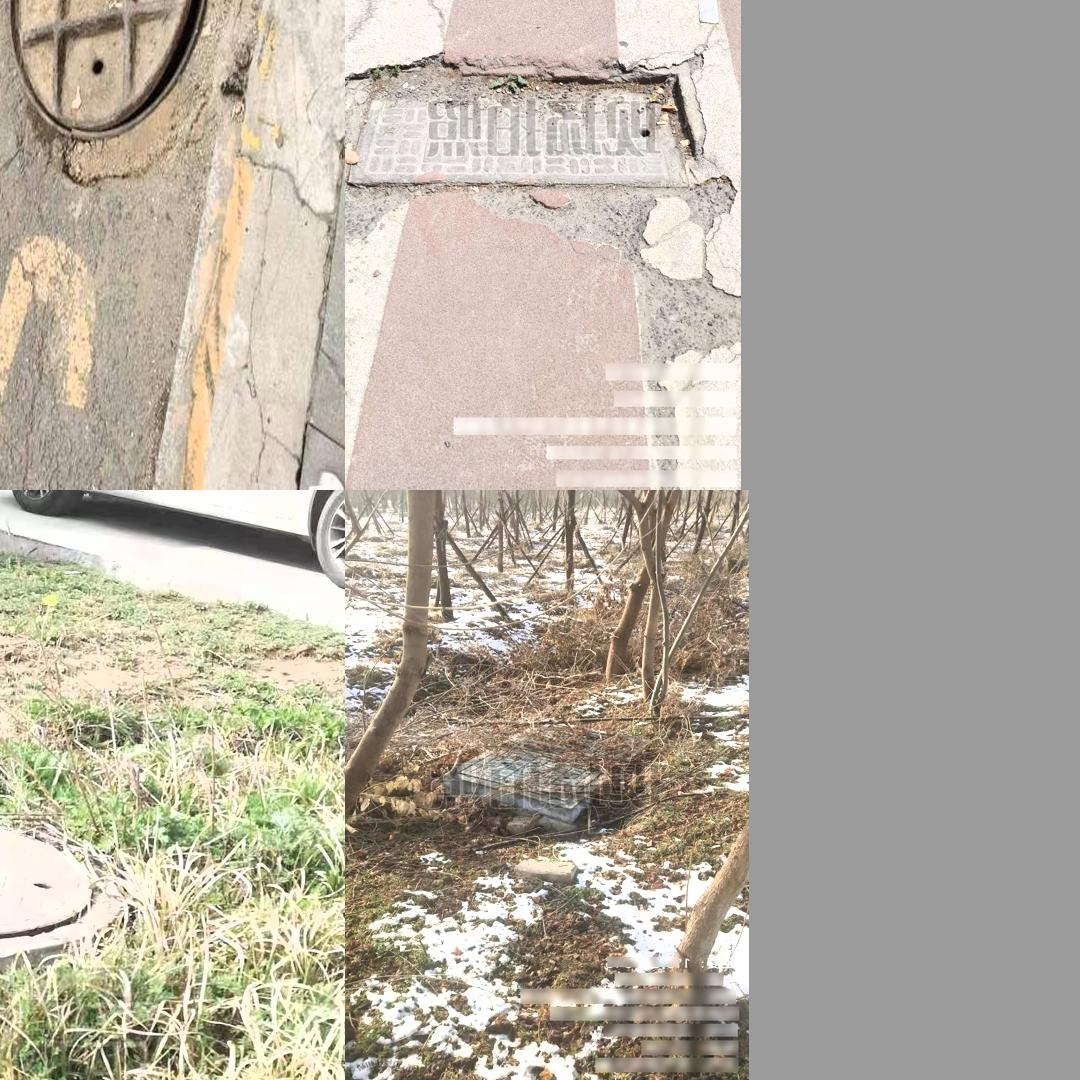circle: (0, 0, 291, 237), (345, 66, 708, 194), (0, 784, 156, 976), (440, 718, 649, 827)
